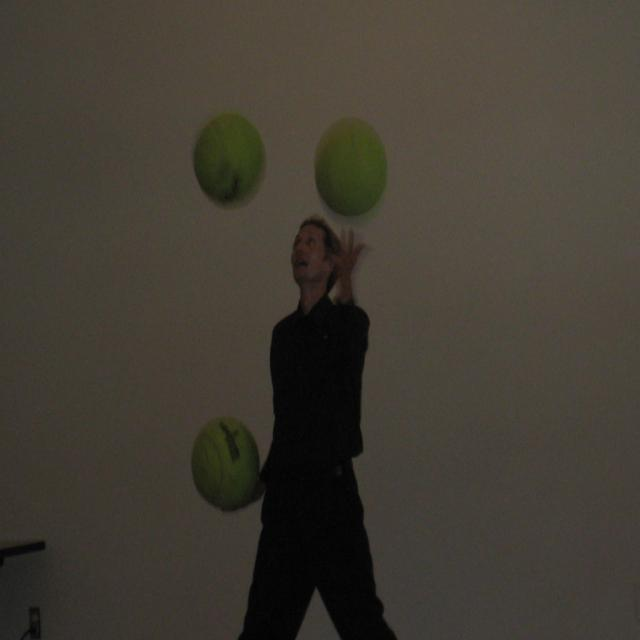Tennis ball: (316, 118, 386, 218), (189, 422, 263, 516), (191, 115, 262, 198)
